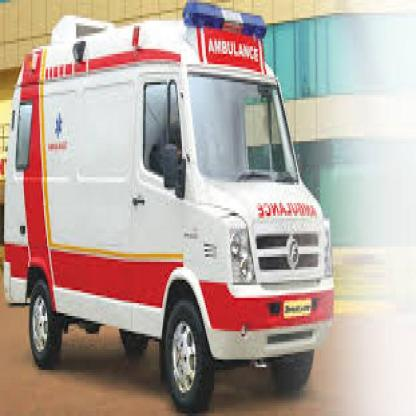priority: (6, 4, 340, 416)
